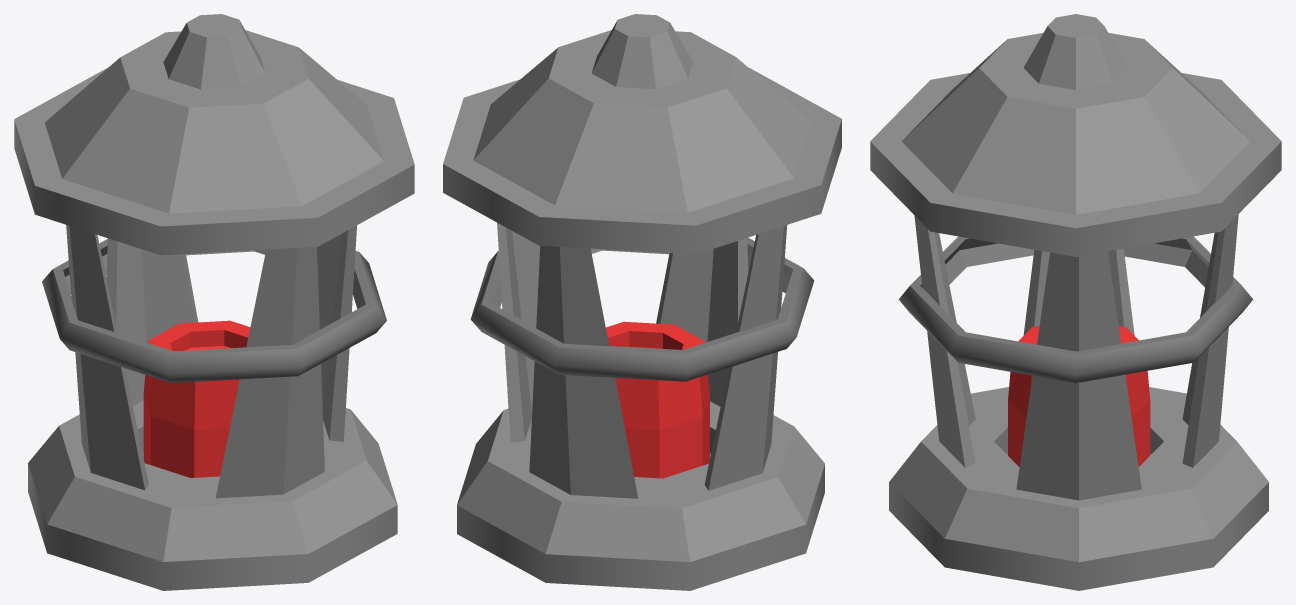
The model's file is Lanterne.FBX.
3 renders of one model, left to right at view 1: azimuth 30°, elevation 25°; view 2: azimuth 150°, elevation 25°; view 3: azimuth 270°, elevation 25°, orthographic.
Parts seen in each view (by area): view 1: Cylinder001; view 2: Cylinder001; view 3: Cylinder001.
Part boxes in pixels (x1,y1,x2,y2): Cylinder001: (14,14,414,590); Cylinder001: (443,14,841,590); Cylinder001: (870,14,1281,590).
Size of the model in its own units: 10.24 by 13.3 by 10.24.
